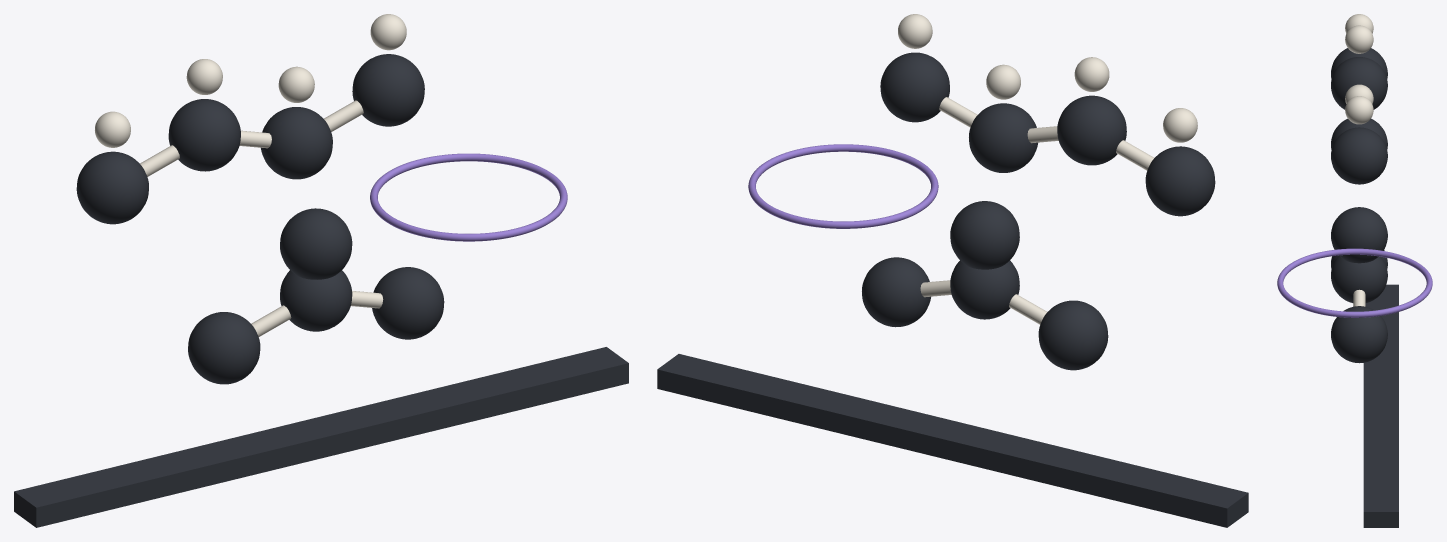
Rendered from chem-p1-isomer.glb.
The picture shows the model from 3 angles, left to right: view 1: azimuth 30°, elevation 25°; view 2: azimuth 150°, elevation 25°; view 3: azimuth 270°, elevation 25°; orthographic projection. The views are drawn at different scales.
Parts seen in each view (by area): view 1: organic-chemistry-bench-reference-base, straight-chain-isomer-carbon-0, branched-chain-isomer-carbon-0, branched-same-atoms-side-carbon, straight-chain-isomer-carbon-3, straight-chain-isomer-carbon-1, straight-chain-isomer-carbon-2, branched-chain-isomer-carbon-2, same-formula-different-shape-ring, branched-chain-isomer-carbon-1, straight-isomer-hydrogen-count-marker-3, straight-isomer-hydrogen-count-marker-2 (+2 smaller); view 2: organic-chemistry-bench-reference-base, branched-chain-isomer-carbon-0, straight-chain-isomer-carbon-0, branched-same-atoms-side-carbon, straight-chain-isomer-carbon-1, straight-chain-isomer-carbon-3, branched-chain-isomer-carbon-2, straight-chain-isomer-carbon-2, same-formula-different-shape-ring, branched-chain-isomer-carbon-1, straight-isomer-hydrogen-count-marker-1, straight-isomer-hydrogen-count-marker-2 (+2 smaller); view 3: organic-chemistry-bench-reference-base, straight-chain-isomer-carbon-3, branched-chain-isomer-carbon-2, same-formula-different-shape-ring, branched-same-atoms-side-carbon, branched-chain-isomer-carbon-1, straight-chain-isomer-carbon-1, straight-isomer-hydrogen-count-marker-1, straight-isomer-hydrogen-count-marker-3, straight-chain-isomer-carbon-2, straight-chain-isomer-carbon-0, straight-isomer-hydrogen-count-marker-0 (+2 smaller).
Boxes of the visible parts, x1,y1,x2,y2 form: organic-chemistry-bench-reference-base: (14, 347, 628, 527); straight-chain-isomer-carbon-0: (76, 151, 148, 224); branched-chain-isomer-carbon-0: (188, 312, 260, 384); branched-same-atoms-side-carbon: (280, 208, 352, 279); straight-chain-isomer-carbon-3: (352, 54, 424, 126); straight-chain-isomer-carbon-1: (168, 99, 240, 171); straight-chain-isomer-carbon-2: (261, 107, 332, 179); branched-chain-isomer-carbon-2: (372, 267, 444, 339); same-formula-different-shape-ring: (370, 153, 567, 241); branched-chain-isomer-carbon-1: (280, 270, 352, 331); straight-isomer-hydrogen-count-marker-3: (370, 14, 406, 50); straight-isomer-hydrogen-count-marker-2: (278, 66, 314, 102); organic-chemistry-bench-reference-base: (657, 354, 1248, 527); branched-chain-isomer-carbon-0: (1038, 300, 1108, 370); straight-chain-isomer-carbon-0: (1145, 146, 1215, 216); branched-same-atoms-side-carbon: (950, 201, 1019, 269); straight-chain-isomer-carbon-1: (1057, 95, 1126, 165); straight-chain-isomer-carbon-3: (880, 52, 949, 122); branched-chain-isomer-carbon-2: (862, 257, 930, 327); straight-chain-isomer-carbon-2: (969, 103, 1037, 172); same-formula-different-shape-ring: (748, 144, 938, 228); branched-chain-isomer-carbon-1: (950, 260, 1019, 319); straight-isomer-hydrogen-count-marker-1: (1074, 57, 1109, 91); straight-isomer-hydrogen-count-marker-2: (986, 64, 1020, 99); organic-chemistry-bench-reference-base: (1363, 284, 1398, 527); straight-chain-isomer-carbon-3: (1331, 127, 1387, 184); branched-chain-isomer-carbon-2: (1331, 306, 1387, 363); same-formula-different-shape-ring: (1277, 248, 1432, 317); branched-same-atoms-side-carbon: (1331, 207, 1387, 263); branched-chain-isomer-carbon-1: (1331, 256, 1387, 302); straight-chain-isomer-carbon-1: (1331, 57, 1387, 109); straight-isomer-hydrogen-count-marker-1: (1345, 25, 1373, 53); straight-isomer-hydrogen-count-marker-3: (1345, 96, 1373, 124); straight-chain-isomer-carbon-2: (1331, 118, 1387, 149); straight-chain-isomer-carbon-0: (1331, 48, 1387, 79); straight-isomer-hydrogen-count-marker-0: (1345, 14, 1373, 33).
Size of what is drawn, in the model's own units: 2.45 by 1.69 by 0.708.
